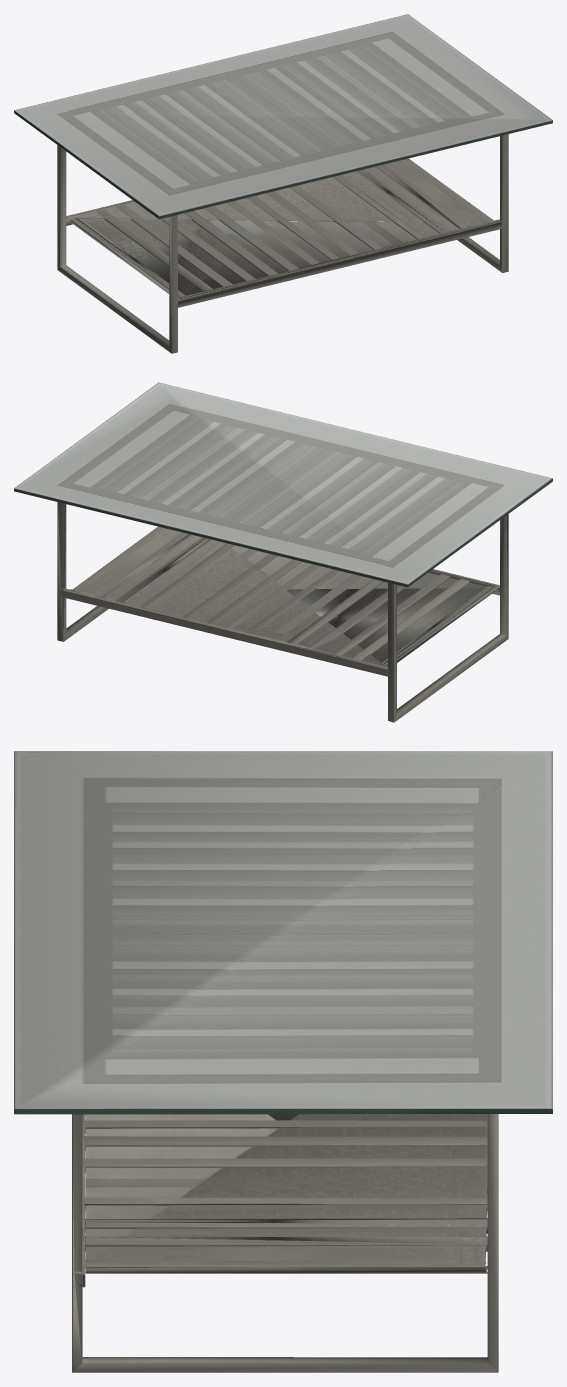
The model's file is Meshy_AI_Glass_Coffee_Table_1020125038_texture.glb.
3 views of the same model, one above another, from view 1: azimuth 30°, elevation 25°; view 2: azimuth 150°, elevation 25°; view 3: azimuth 270°, elevation 25° (orthographic). The views are drawn at different scales.
Size of the model in its own units: 0.9497 by 0.3589 by 0.605.
1 material, 1 textured.
